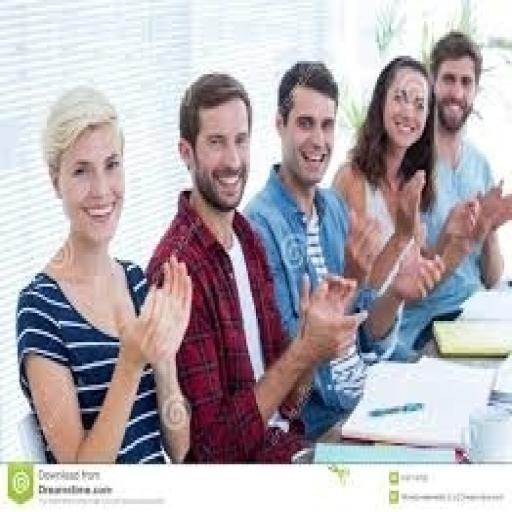clapping: (143, 69, 367, 462), (240, 58, 440, 440), (14, 82, 194, 464), (330, 53, 508, 361)
